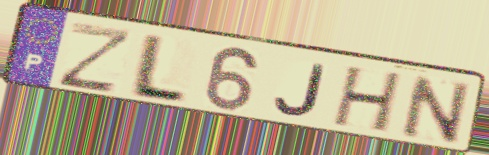6: (202, 45, 261, 112)
H: (328, 65, 407, 136)
J: (272, 61, 329, 119)
L: (124, 32, 191, 106)
N: (400, 72, 474, 145)
Z: (54, 20, 136, 96)
